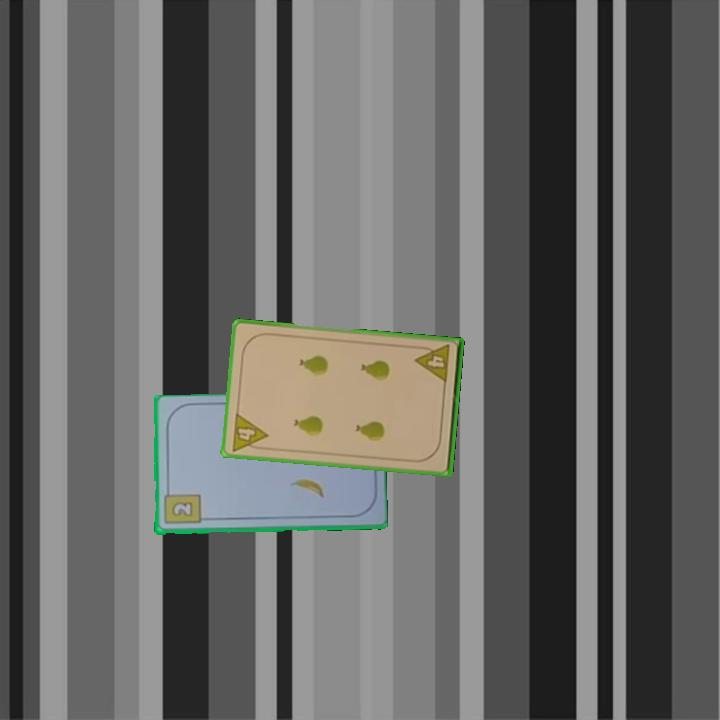2b: (160, 485, 203, 527)
4p: (228, 409, 270, 454), (412, 341, 453, 386)
